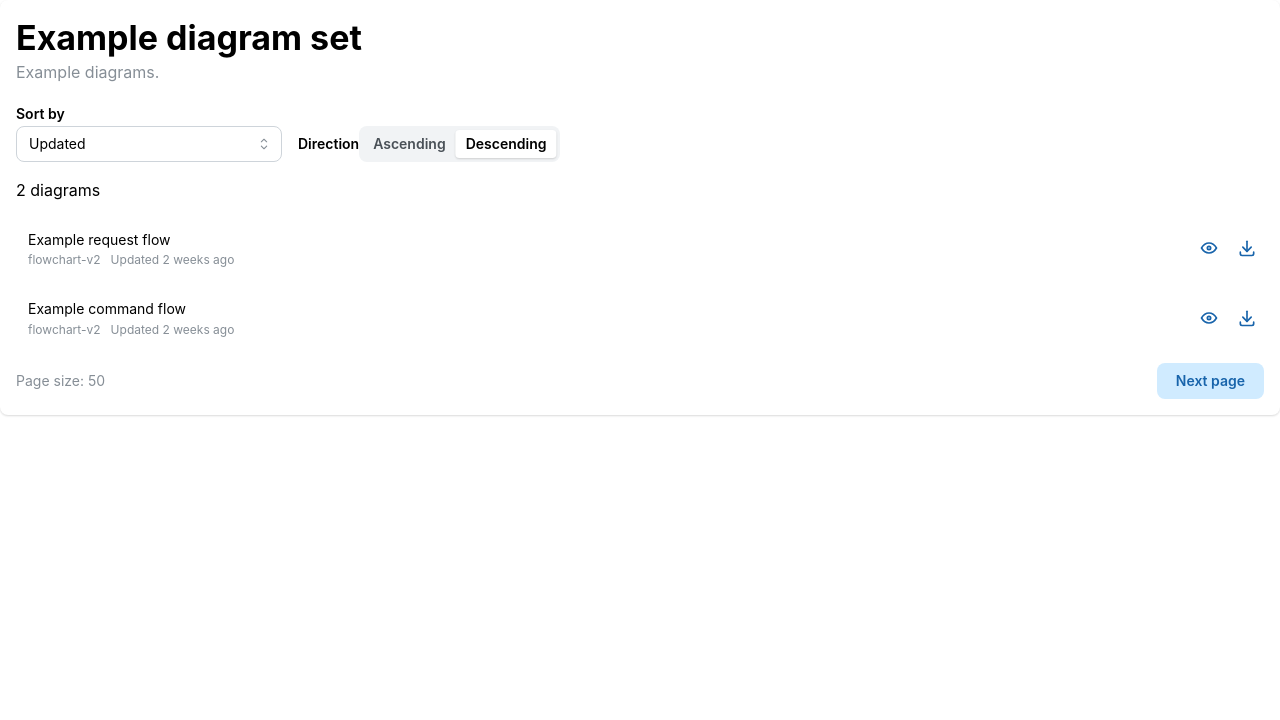
Test: loads a row preview into the full-screen Mermaid viewer
The image size is (1280, 720).
Expected: the list named "Diagrams" is shown, 16,219 -> 1264,347
Click the button named "Preview Example request flow".
click(1209, 248)  # box 1192,231 -> 1226,265
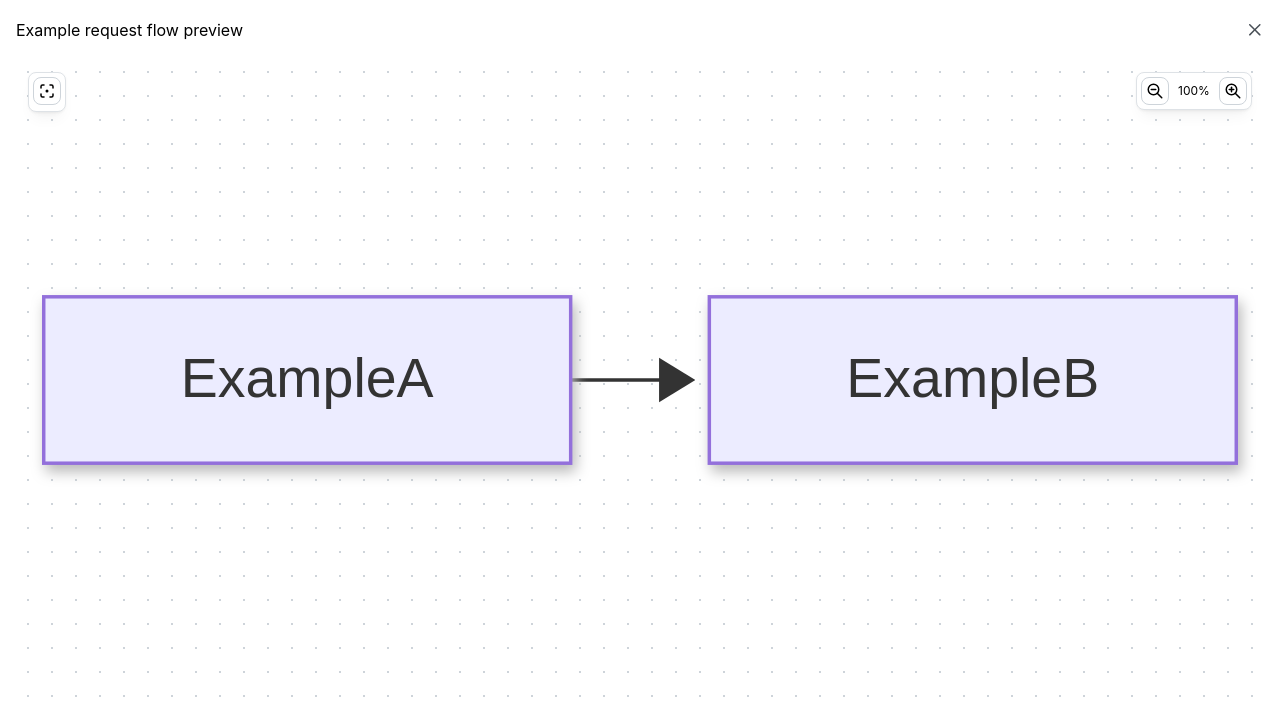
Expected: the dialog "Example request flow preview" is shown
Expected: the picture named "Example request flow Mermaid preview" is shown
